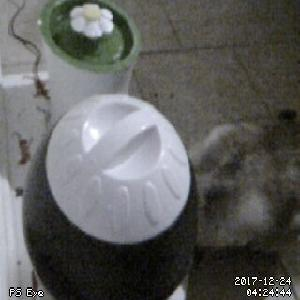cat: (184, 107, 300, 270)
fountain: (38, 1, 143, 74)
